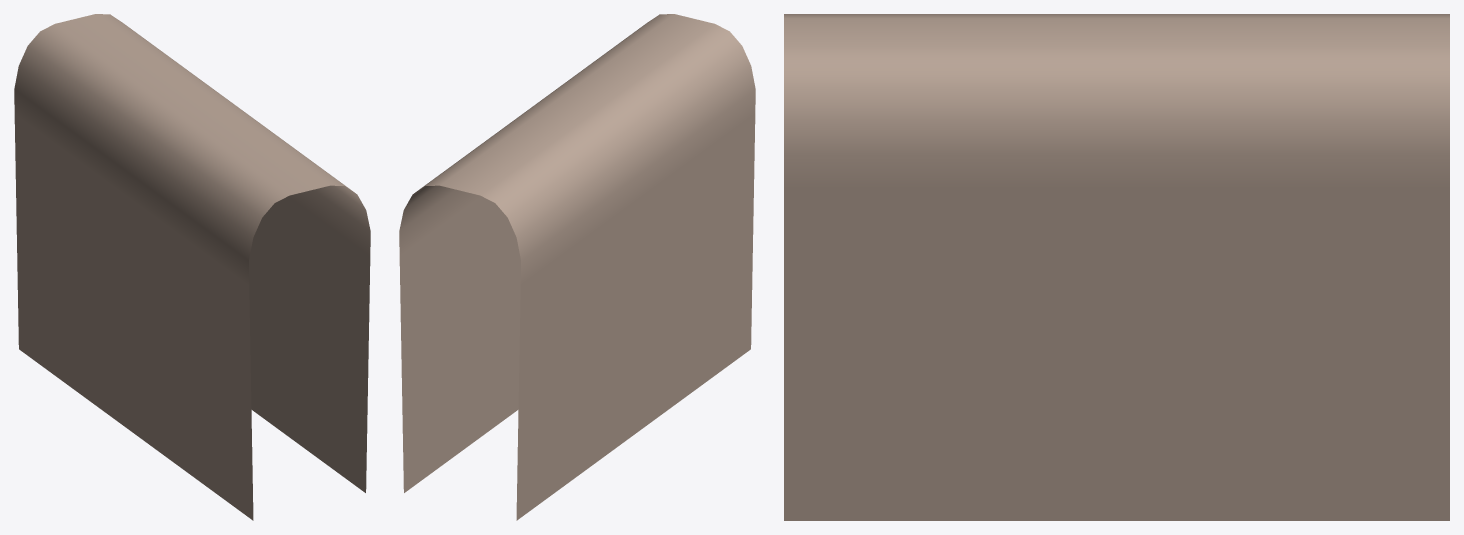
The model's file is conveyor_edge.glb.
The picture shows the model from 3 angles, left to right: view 1: azimuth 30°, elevation 25°; view 2: azimuth 150°, elevation 25°; view 3: azimuth 270°, elevation 25°; orthographic projection. The views are drawn at different scales.
Parts seen in each view (by area): view 1: RoadA; view 2: RoadA; view 3: RoadA.
Part boxes in pixels (<box>): RoadA: <box>14,14,370,520</box>; RoadA: <box>399,14,755,520</box>; RoadA: <box>784,14,1449,520</box>.
Size of the model in its own units: 0.3 by 0.7446 by 1.
